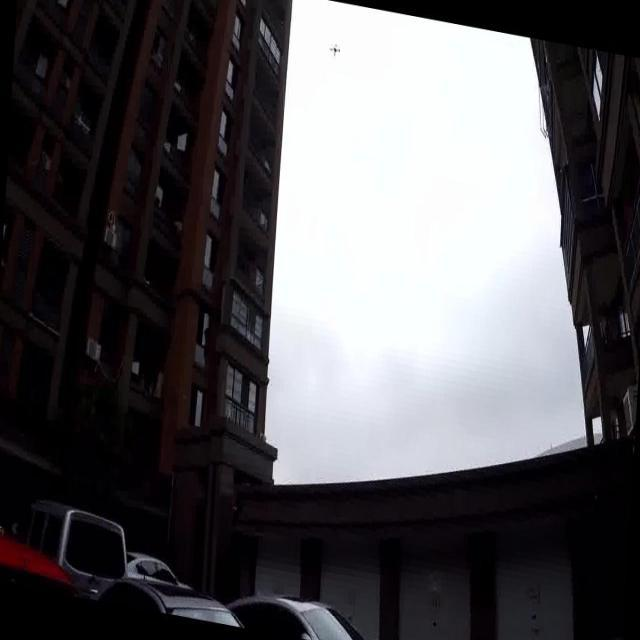drone: (326, 38, 346, 61)
